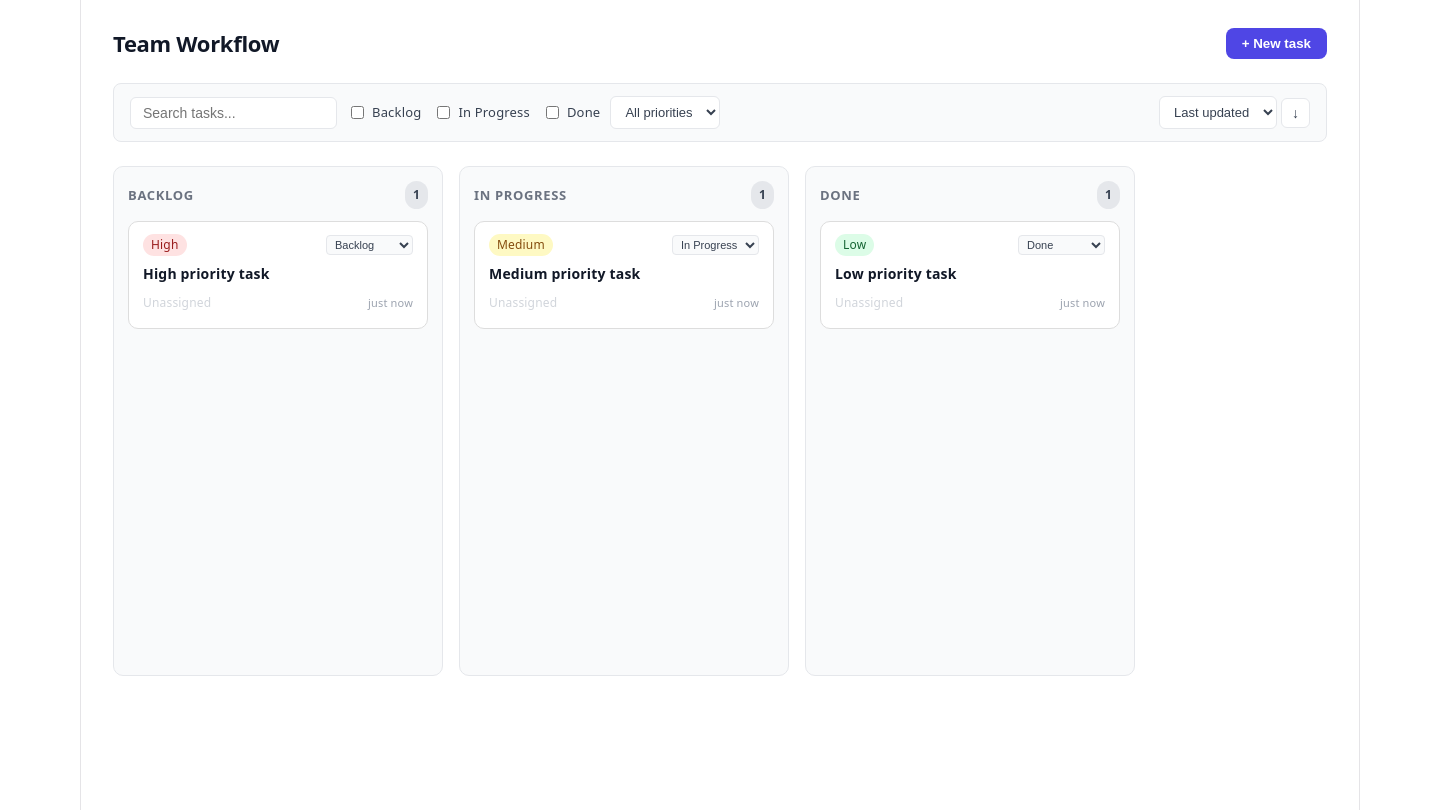
Test: filtering and sorting › filters by text search in title
In the search field: (234, 112) [130,96,337,128], type "high"
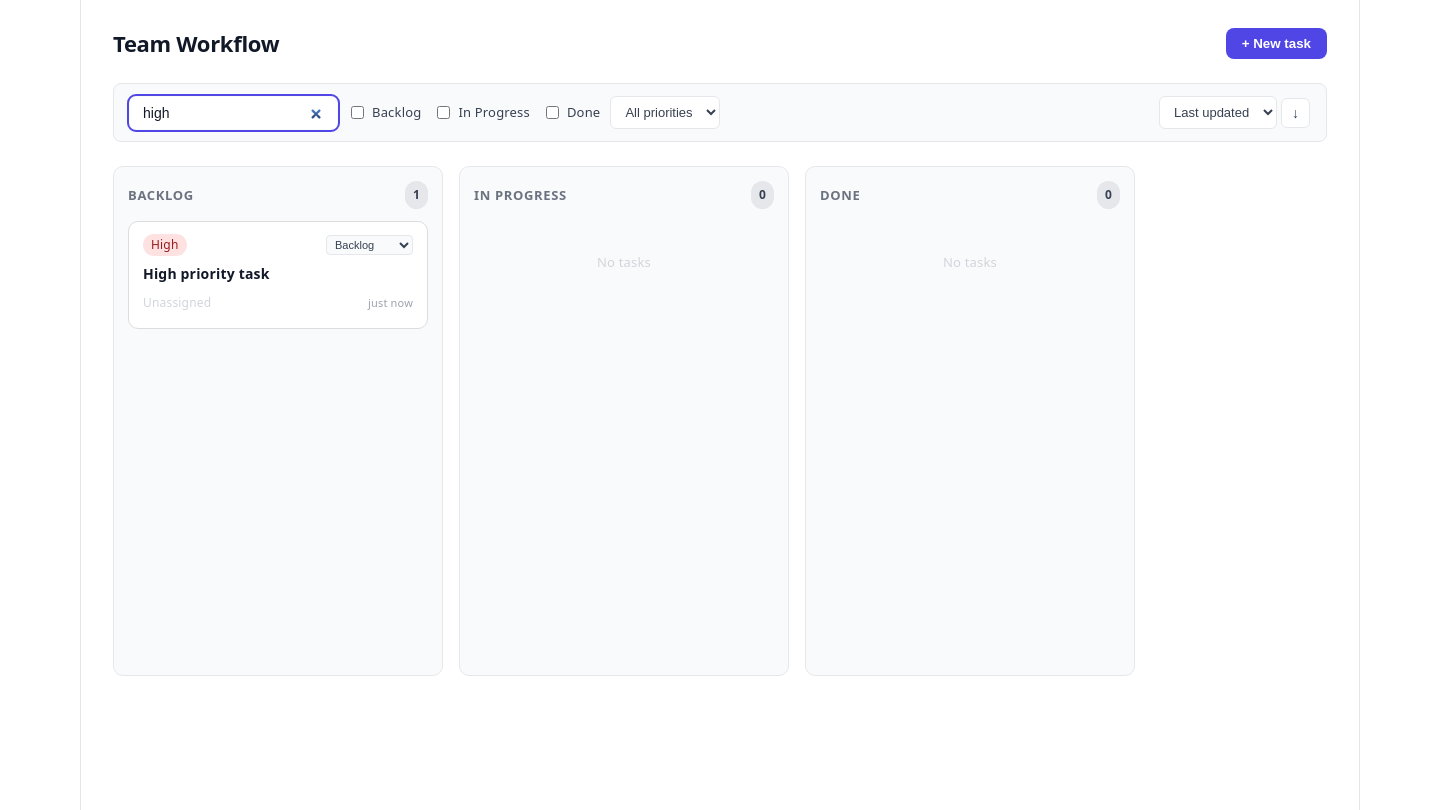
Expected: the text "High priority task" is shown, [143,264,270,283]
Now the button "Medium priority task" is gone
